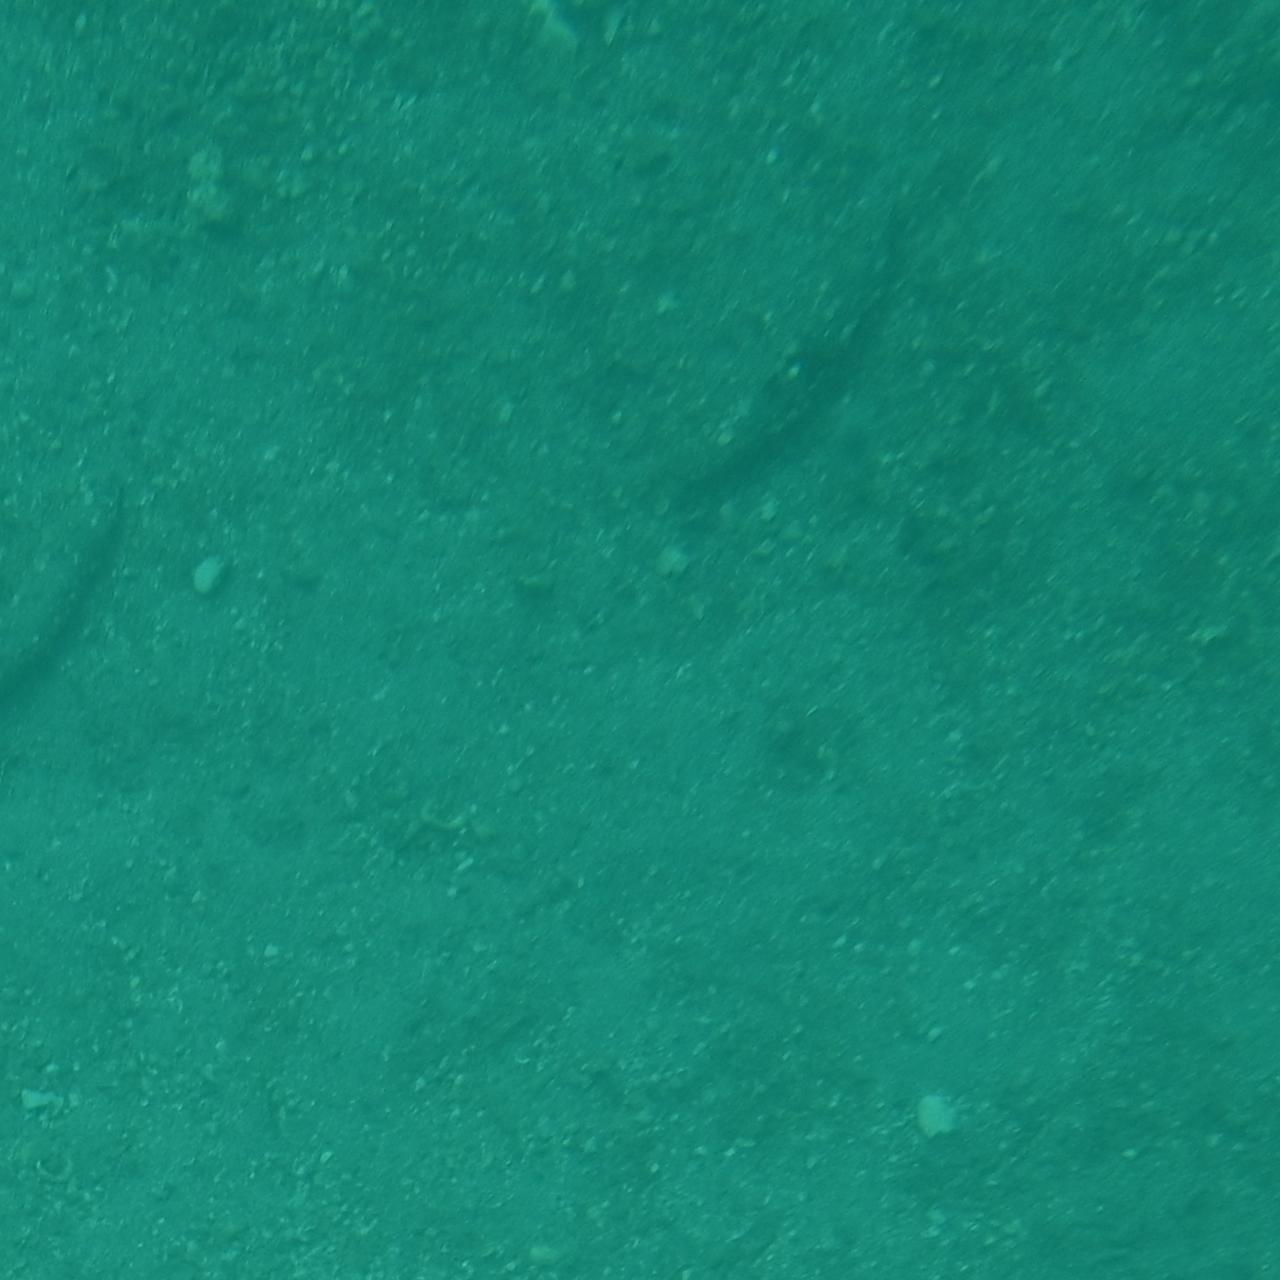Holothuria tubulosa: (658, 191, 908, 531), (0, 459, 156, 753), (0, 611, 137, 908), (1105, 392, 1280, 601), (0, 409, 109, 735), (1217, 62, 1280, 440)
